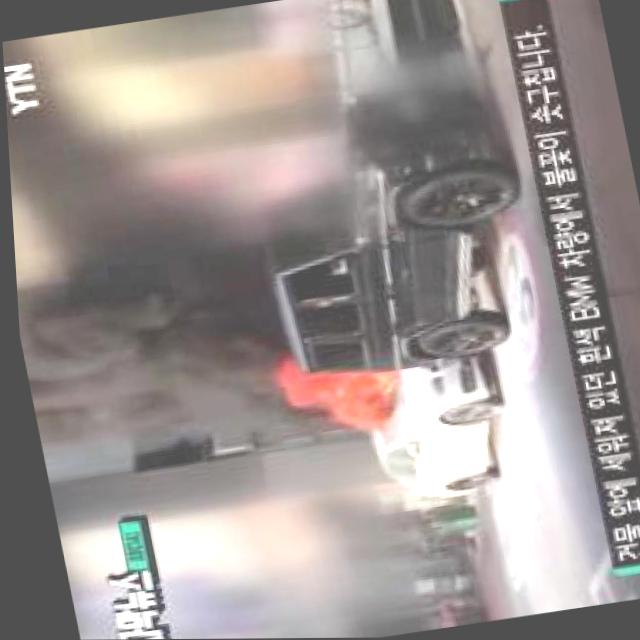Fire: (265, 344, 388, 426)
